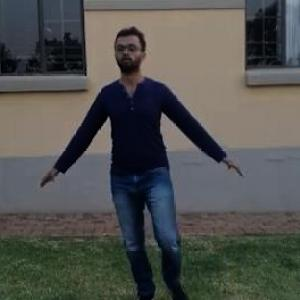land: (44, 17, 242, 299)
